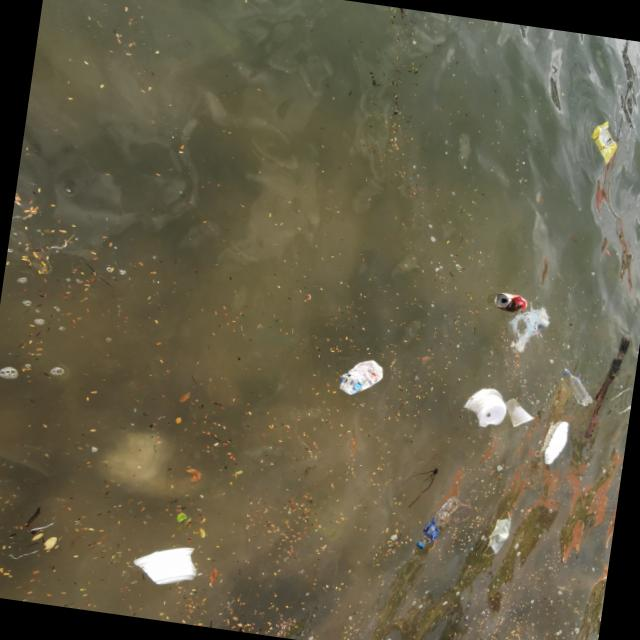can: (491, 292, 529, 315)
foam: (128, 542, 201, 591), (460, 386, 511, 431), (536, 420, 573, 469)
plastic bag: (595, 121, 620, 164)
plastic bottle: (416, 494, 460, 555), (559, 369, 598, 409)
